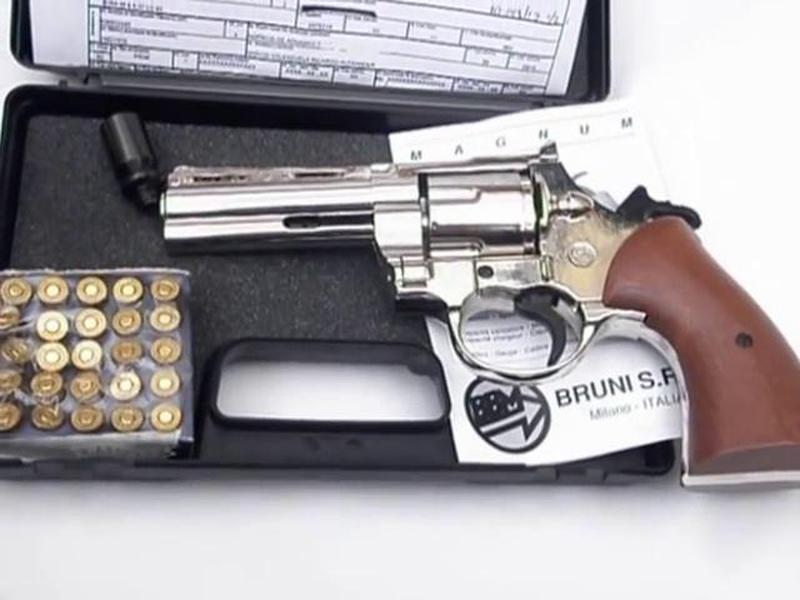Revolver: (159, 138, 800, 418)
